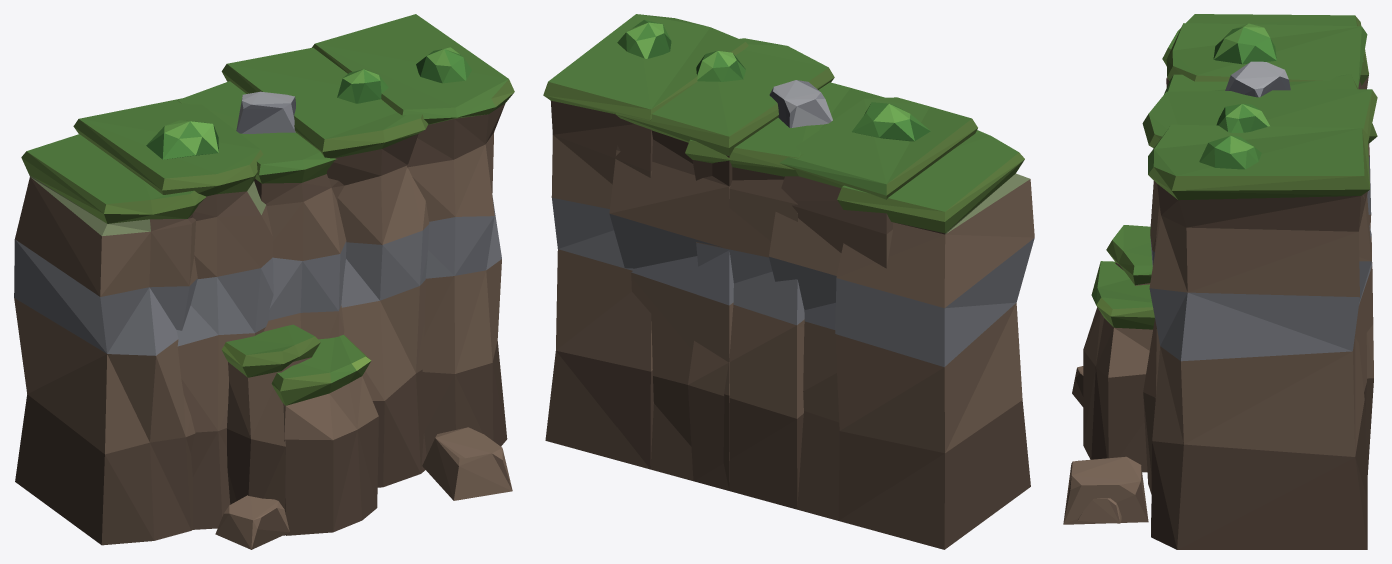
File: cliff_a.fbx
3 renders of one model, left to right at view 1: azimuth 30°, elevation 25°; view 2: azimuth 150°, elevation 25°; view 3: azimuth 270°, elevation 25°, orthographic. The views are drawn at different scales.
Visible parts, largest first — view 1: cliff_a; view 2: cliff_a; view 3: cliff_a.
Boxes of the visible parts, x1,y1,x2,y2 form: cliff_a: (14,14,514,549); cliff_a: (543,14,1034,549); cliff_a: (1063,14,1377,549).
Bounding box in the file's own units: 10.99 × 10.1 × 7.06.
